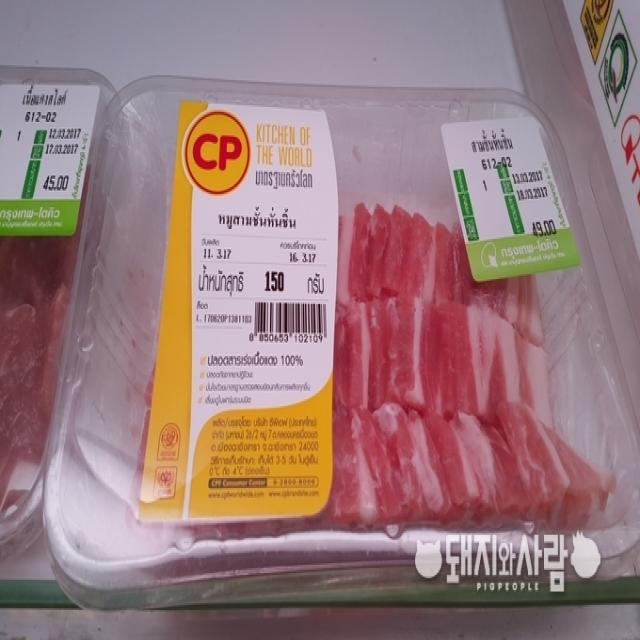pork: (111, 70, 592, 567)
